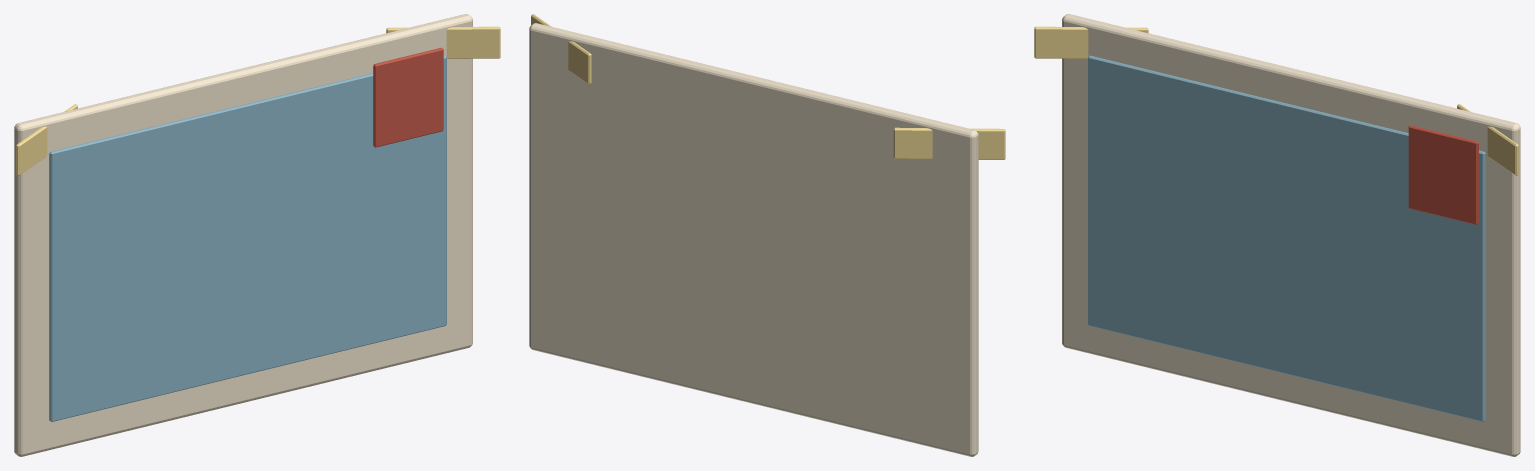
File: keepsake_postcard.glb
3 views of the same model, side by side, from view 1: azimuth 30°, elevation 25°; view 2: azimuth 150°, elevation 25°; view 3: azimuth 330°, elevation 25° (orthographic). The views are drawn at different scales.
Parts seen in each view (by area): view 1: picture, card, stamp, tape.001, tape; view 2: card, tape, tape.001; view 3: picture, card, stamp, tape, tape.001.
Part boxes in pixels (x1,y1,x2,y2): picture: (49,55,446,421); card: (14,14,472,456); stamp: (373,47,443,147); tape.001: (386,26,500,58); tape: (16,104,77,175); card: (529,23,978,456); tape: (893,127,1005,159); tape.001: (531,14,591,84); picture: (1088,55,1485,421); card: (1062,14,1520,456); stamp: (1408,125,1478,224); tape: (1034,26,1148,58); tape.001: (1457,104,1518,175).
Bounding box in the file's own units: 0.4885 × 0.32 × 0.0503.
